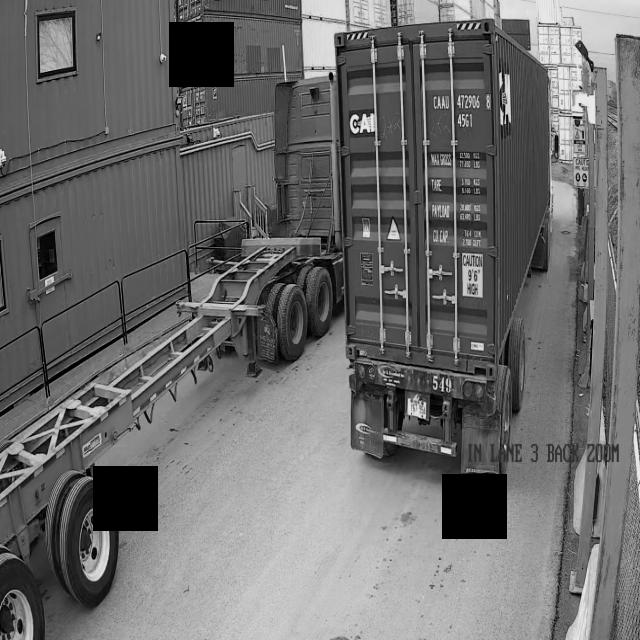container_company_logo: (347, 96, 382, 139)
container_number: (429, 90, 490, 142)
other_container_info: (428, 146, 494, 300)
truck_with_container: (335, 18, 554, 476)
truck_without_container: (0, 73, 343, 640)
